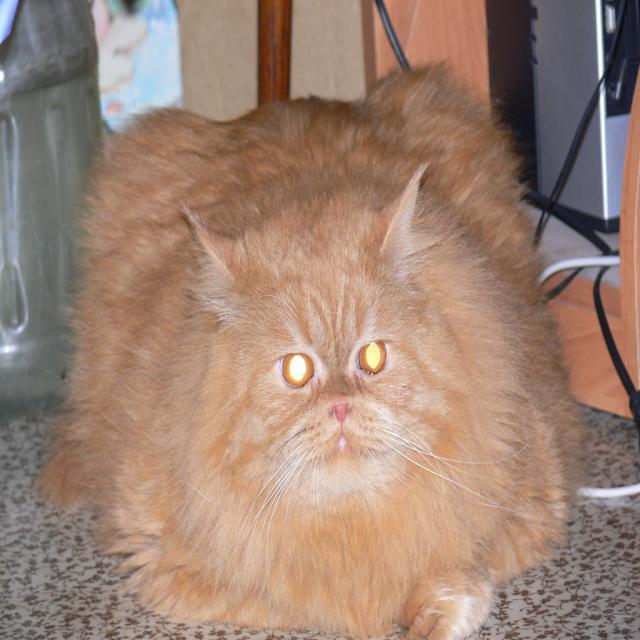Cat: (32, 57, 592, 639)
